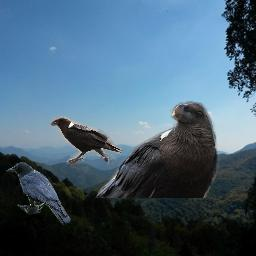Crow: (94, 100, 220, 198), (6, 162, 71, 226), (50, 116, 122, 166)
